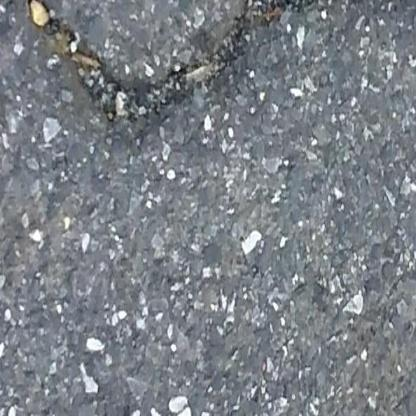Cracks: (0, 0, 405, 128)
